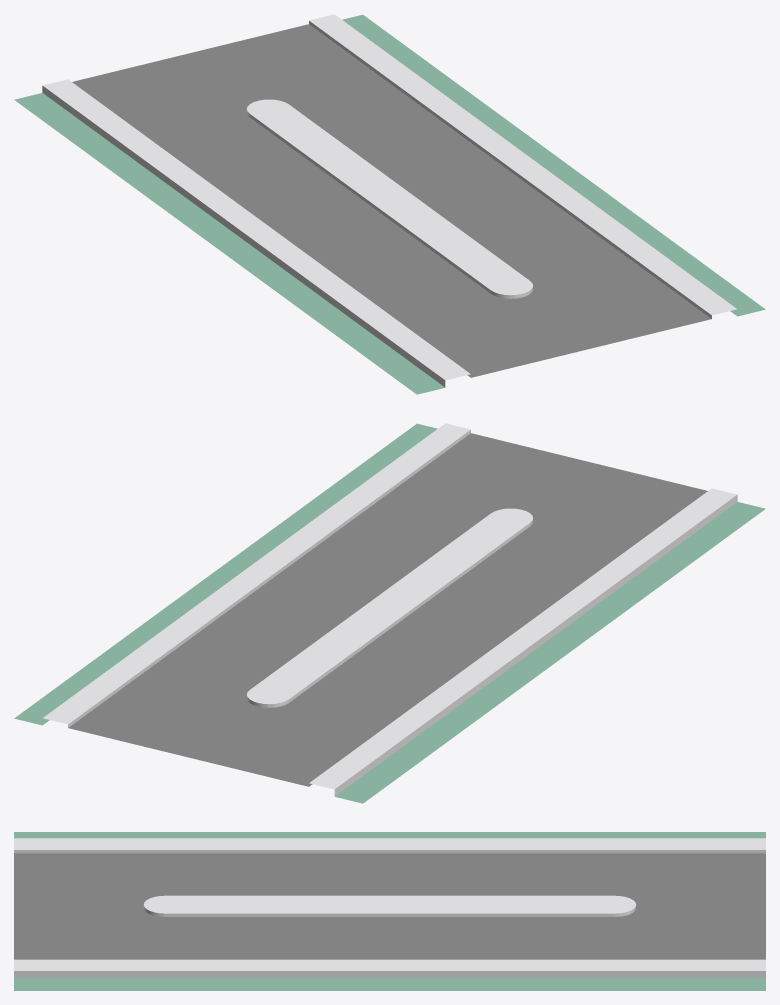
Rendered from roadStraightLongMid.glb.
The picture shows the model from 3 angles, top to bottom: view 1: azimuth 30°, elevation 25°; view 2: azimuth 150°, elevation 25°; view 3: azimuth 270°, elevation 25°; orthographic projection. The views are drawn at different scales.
Parts seen in each view (by area): view 1: roadStraightLongMid(Clone); view 2: roadStraightLongMid(Clone); view 3: roadStraightLongMid(Clone).
Part boxes in pixels (x1,y1,x2,y2): roadStraightLongMid(Clone): (14, 14, 765, 394); roadStraightLongMid(Clone): (14, 423, 765, 803); roadStraightLongMid(Clone): (14, 832, 765, 990).
Size of the model in its own units: 1 by 0.02 by 2.
